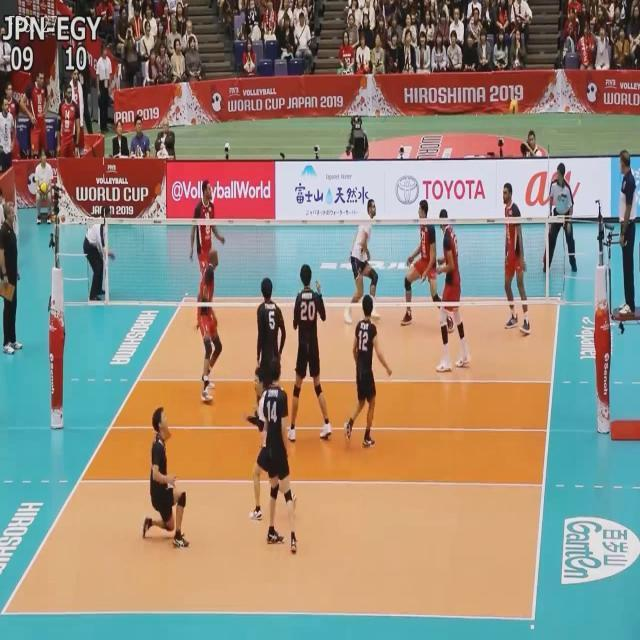volleyball: (509, 99, 518, 115), (39, 182, 48, 195)
